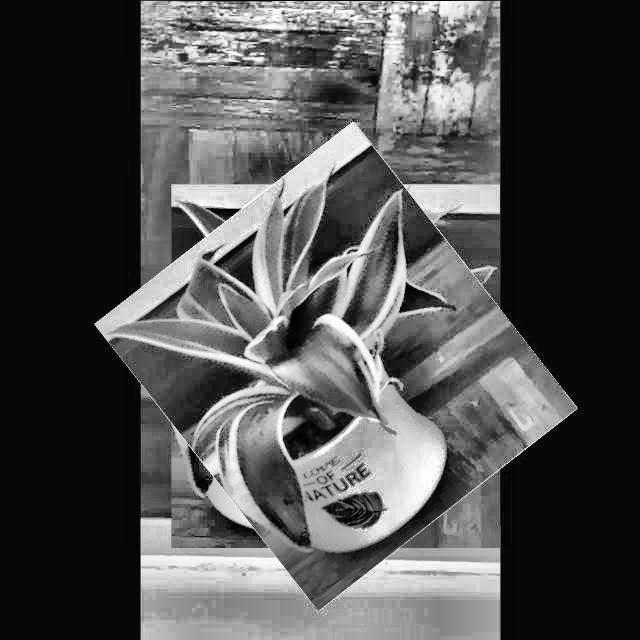plants: (132, 152, 538, 580)
